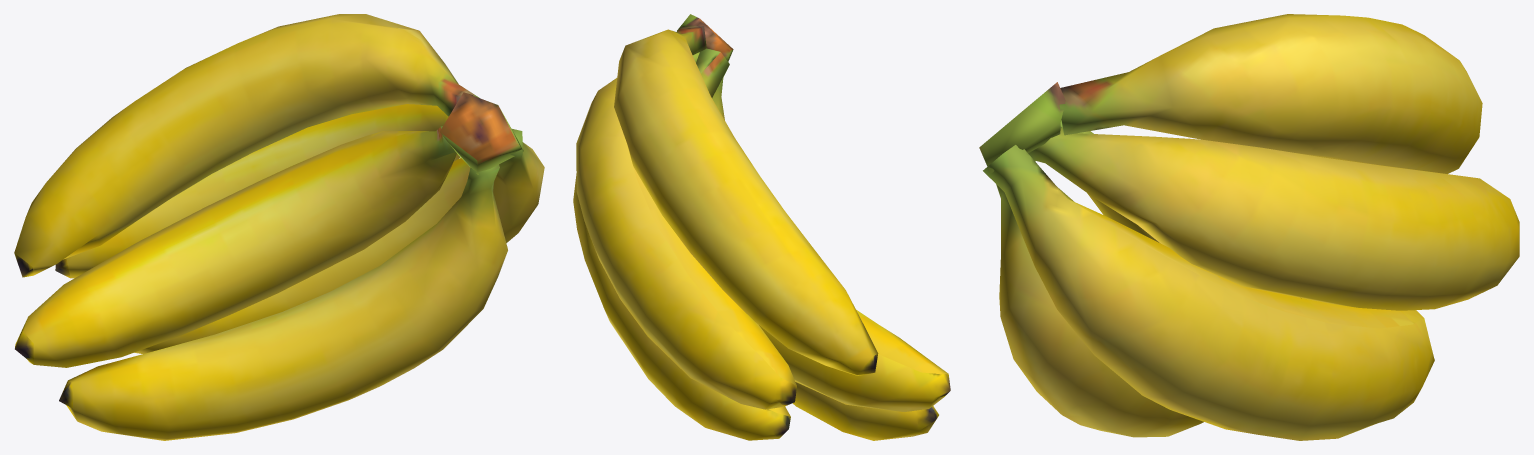
File: ref_bananas.glb
3 renders of one model, left to right at view 1: azimuth 30°, elevation 25°; view 2: azimuth 150°, elevation 25°; view 3: azimuth 270°, elevation 25°, orthographic. The views are drawn at different scales.
Parts seen in each view (by area): view 1: ref_bananas; view 2: ref_bananas; view 3: ref_bananas.
Boxes of the visible parts, x1,y1,x2,y2 form: ref_bananas: (14, 14, 544, 440); ref_bananas: (573, 14, 950, 440); ref_bananas: (979, 14, 1519, 440).
Bounding box in the file's own units: 1 × 0.7615 × 0.7628.
Materials: 1 (1 with a texture image).
